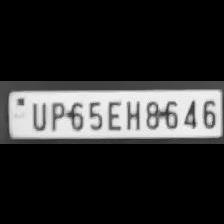4: (180, 96, 200, 128)
5: (84, 97, 104, 129)
6: (158, 95, 178, 129), (64, 98, 84, 130), (198, 96, 218, 128)
8: (142, 96, 162, 128)
E: (104, 97, 122, 130)
H: (122, 96, 142, 128)
P: (47, 98, 65, 130)
U: (28, 98, 48, 130)
